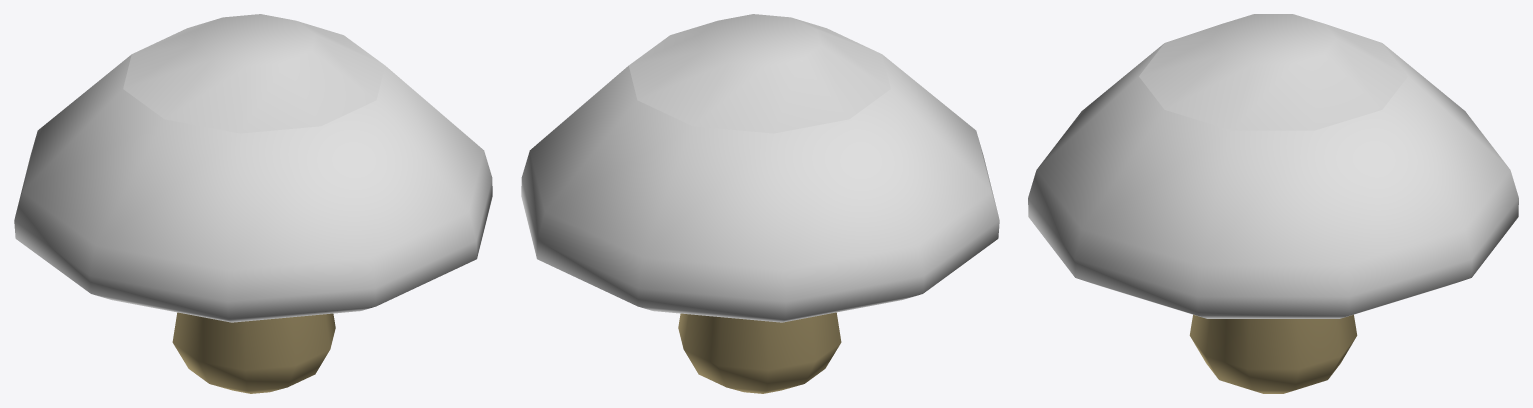
Rendered from item_cogumelo.fbx.
The picture shows the model from 3 angles, left to right: view 1: azimuth 30°, elevation 25°; view 2: azimuth 150°, elevation 25°; view 3: azimuth 270°, elevation 25°; orthographic projection.
Parts seen in each view (by area): view 1: Cube; view 2: Cube; view 3: Cube.
Part boxes in pixels (left/top/right/bottom): Cube: left=14, top=14, right=492, bottom=393; Cube: left=521, top=14, right=999, bottom=393; Cube: left=1028, top=14, right=1518, bottom=393.
Bounding box in the file's own units: 517 × 417 × 543.
